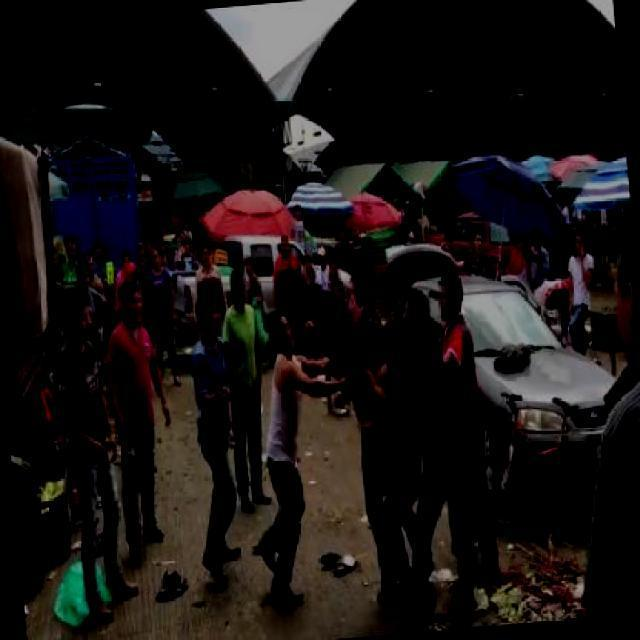fight: (232, 253, 408, 609)
